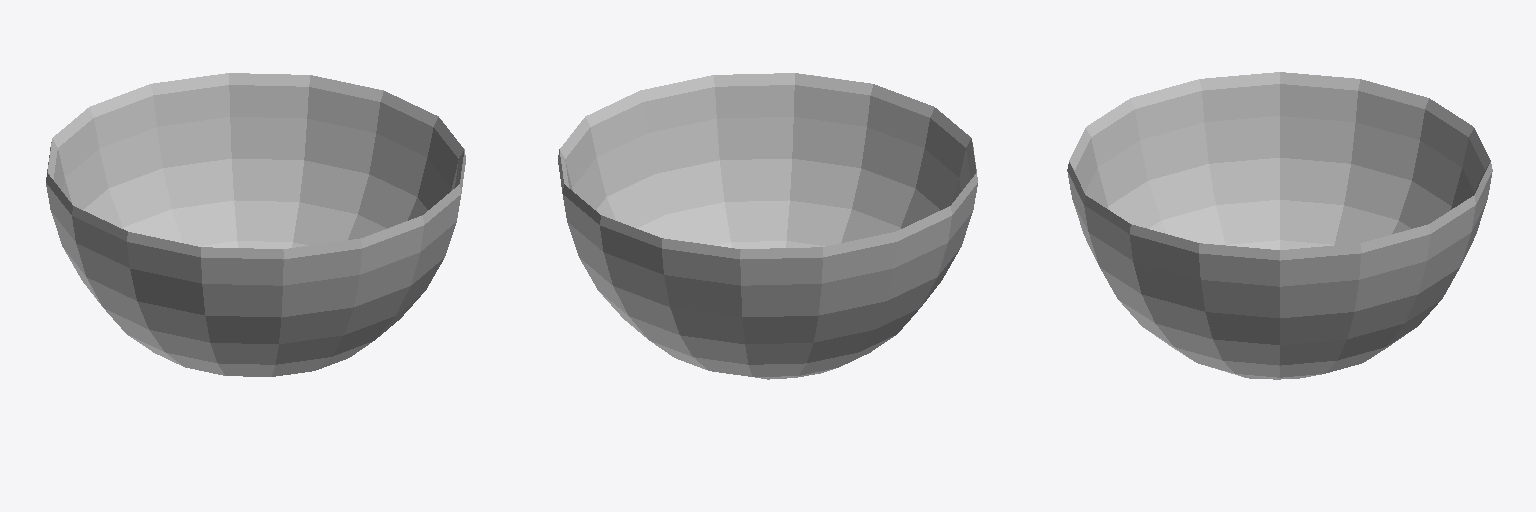
File: bowl.obj
The picture shows the model from 3 angles: view 1: azimuth 30°, elevation 25°; view 2: azimuth 150°, elevation 25°; view 3: azimuth 270°, elevation 25°; orthographic projection.
Parts seen in each view (by area): view 1: Sphere; view 2: Sphere; view 3: Sphere.
Boxes of the visible parts, <box> form: Sphere: <box>46,73,465,376</box>; Sphere: <box>558,73,977,379</box>; Sphere: <box>1067,72,1492,379</box>.
Size of the model in its own units: 0.9581 by 0.4716 by 0.9581.